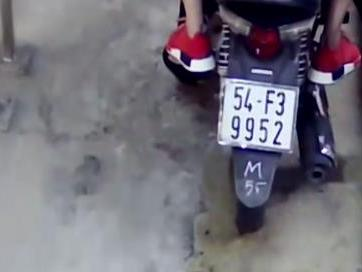num_plate: (218, 75, 301, 154)
